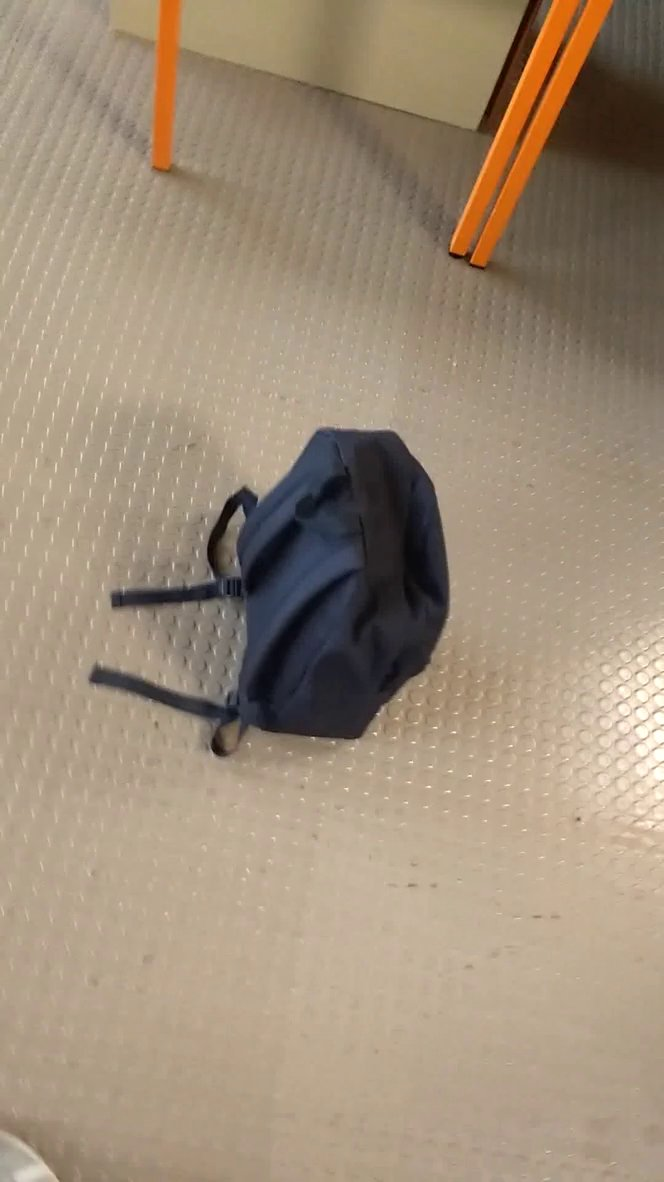bag: (80, 418, 460, 766)
